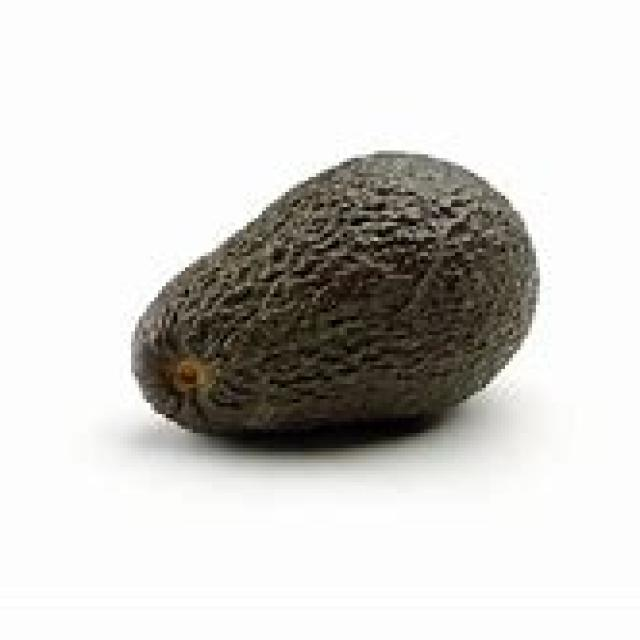avocado: (126, 150, 544, 447)
